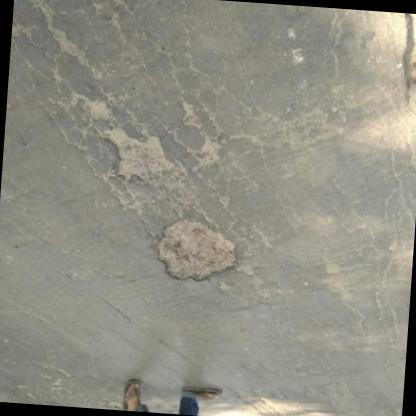pothole: (151, 215, 241, 283), (98, 124, 178, 185)
